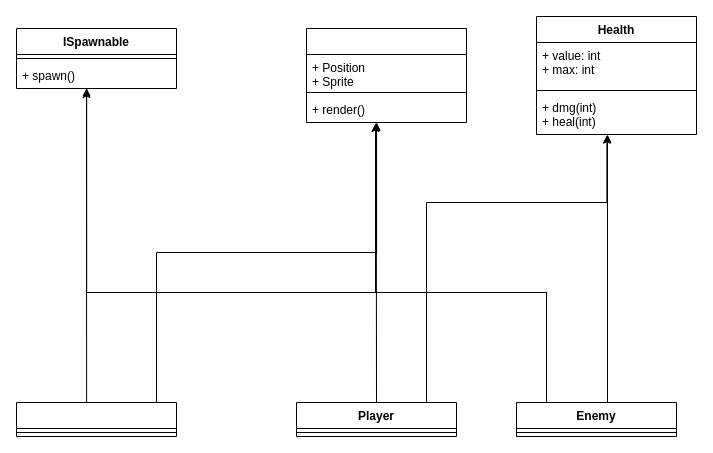
Image size: 713x453. Some labels were removed from this diagram. The shapes that lost their labels are listed below. From the top down, each one's box as (x1, y1, x2, y2) in pixels, then its label:
(306, 28, 466, 122): Renderable
(16, 402, 176, 436): Bullet
